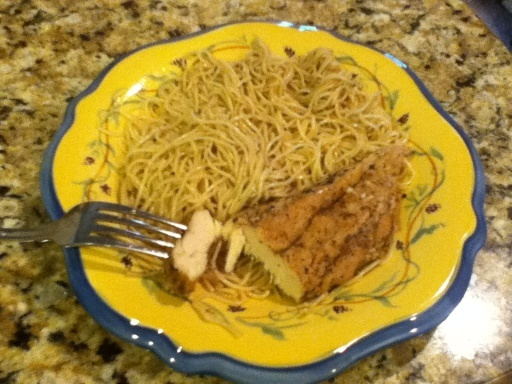background: (94, 22, 327, 181)
